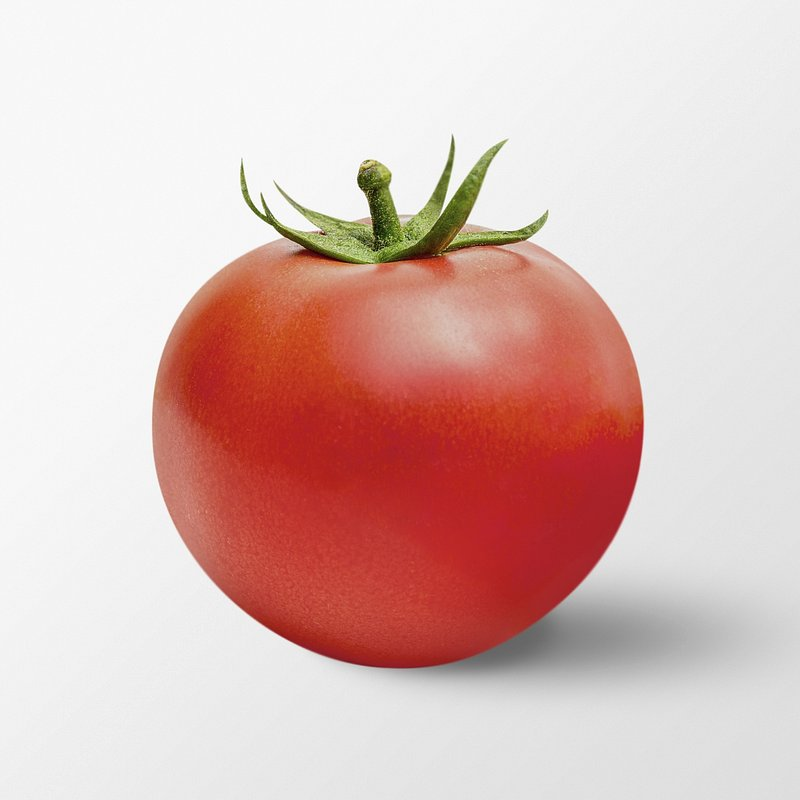tomato: (152, 160, 644, 673)
